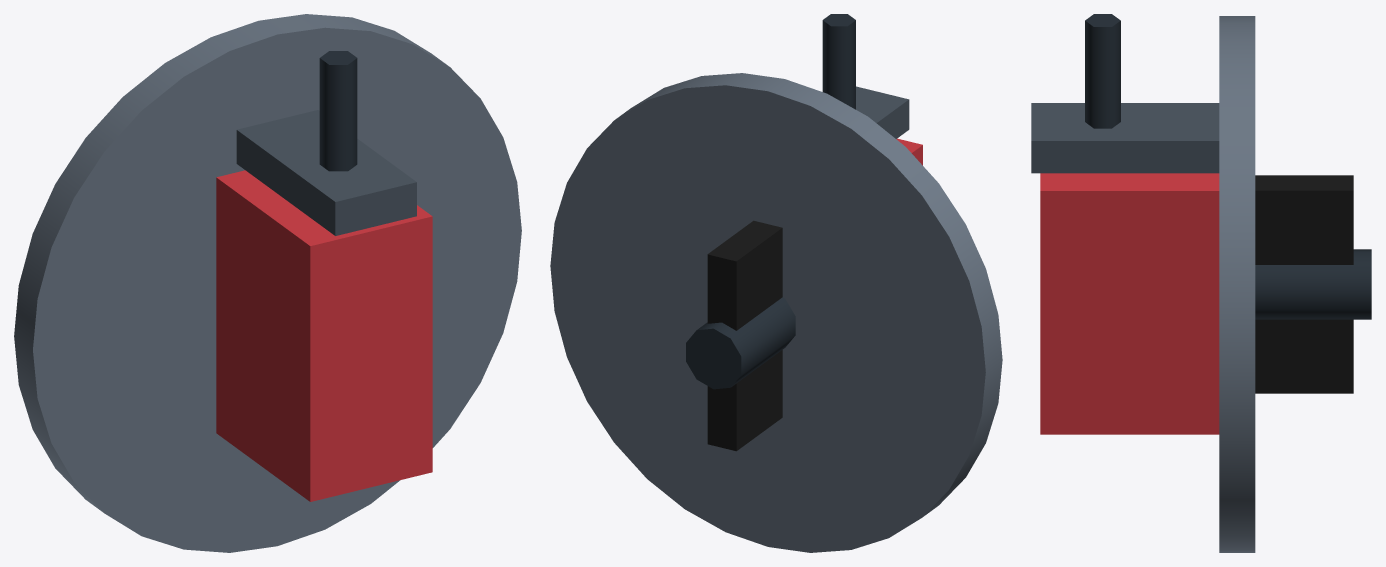
The model's file is brake.glb.
3 renders of one model, left to right at view 1: azimuth 30°, elevation 25°; view 2: azimuth 150°, elevation 25°; view 3: azimuth 270°, elevation 25°, orthographic. The views are drawn at different scales.
Bounding box in the file's own units: 0.6 × 0.625 × 0.38.
